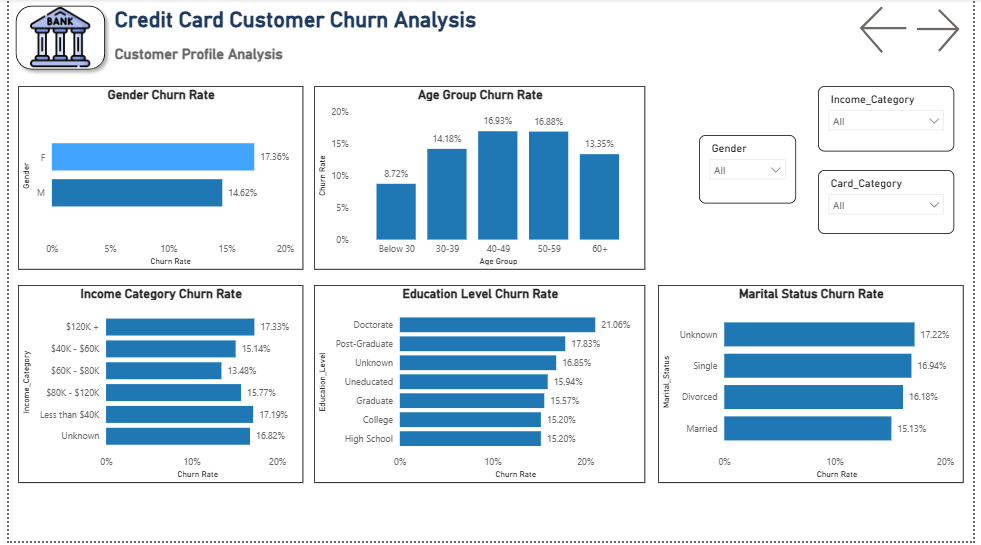

The dashboard page shown, as its layout file describes it:
{"tool":"powerbi","page":{"name":"Customer Profile Analysis","canvas":[1280,720],"ordinal":7},"visuals":[{"type":"shape","box":[0,0,136.7,102.5],"z":0},{"type":"image","box":[0,10.2,136.1,80.5],"z":1000},{"type":"textbox","title":"Credit Card Customer Churn Analysis","box":[136.1,10.2,670.2,41],"z":2000},{"type":"textbox","title":"Customer Profile Analysis","box":[136.1,61.5,725.9,29.3],"z":3000},{"type":"clusteredBarChart","title":"Gender Churn Rate","fields":{"Category":["BankChurners.Gender"],"Y":["BankChurners.Churn Rate"]},"box":[12,115.3,378.8,244],"z":4000},{"type":"clusteredColumnChart","title":"Age Group Churn Rate","fields":{"Category":["BankChurners.Age Group"],"Y":["BankChurners.Churn Rate"]},"box":[405.7,115.3,440.1,244],"z":5000},{"type":"clusteredBarChart","title":"Marital Status Churn Rate","fields":{"Category":["BankChurners.Marital_Status"],"Y":["BankChurners.Churn Rate"]},"box":[862.3,380.3,405.7,263.5],"z":6000},{"type":"clusteredBarChart","title":"Education Level Churn Rate","fields":{"Y":["BankChurners.Churn Rate"],"Category":["BankChurners.Education_Level"]},"box":[405.7,380.3,440.1,263.5],"z":7000},{"type":"clusteredBarChart","title":"Income Category Churn Rate","fields":{"Y":["BankChurners.Churn Rate"],"Category":["BankChurners.Income_Category"]},"box":[12,380.3,378.8,263.5],"z":8000},{"type":"slicer","fields":{"Values":["BankChurners.Gender"]},"box":[916.2,181.1,128.7,91.3],"z":9000},{"type":"slicer","fields":{"Values":["BankChurners.Income_Category"]},"box":[1074.9,115.3,181.1,86.8],"z":10000},{"type":"slicer","fields":{"Values":["BankChurners.Card_Category"]},"box":[1074.9,227.6,181.1,85.3],"z":11000},{"type":"actionButton","box":[1197.7,6,70.4,70.4],"z":12000},{"type":"actionButton","box":[1124.3,3,82.3,76.4],"z":13000}]}

Visuals, with their boxes in screenshot pixels (x1, y1, x2, y2), scaled from the page's 1280x720 canvas onto the 981x545 screenshot:
shape: 0,0,105,78
image: 0,8,104,69
"Credit Card Customer Churn Analysis" textbox: 104,8,618,39
"Customer Profile Analysis" textbox: 104,47,661,69
"Gender Churn Rate" clusteredBarChart: 9,87,300,272
"Age Group Churn Rate" clusteredColumnChart: 311,87,648,272
"Marital Status Churn Rate" clusteredBarChart: 661,288,972,487
"Education Level Churn Rate" clusteredBarChart: 311,288,648,487
"Income Category Churn Rate" clusteredBarChart: 9,288,300,487
slicer - BankChurners.Gender: 702,137,801,206
slicer - BankChurners.Income_Category: 824,87,963,153
slicer - BankChurners.Card_Category: 824,172,963,237
actionButton: 918,5,972,58
actionButton: 862,2,925,60
